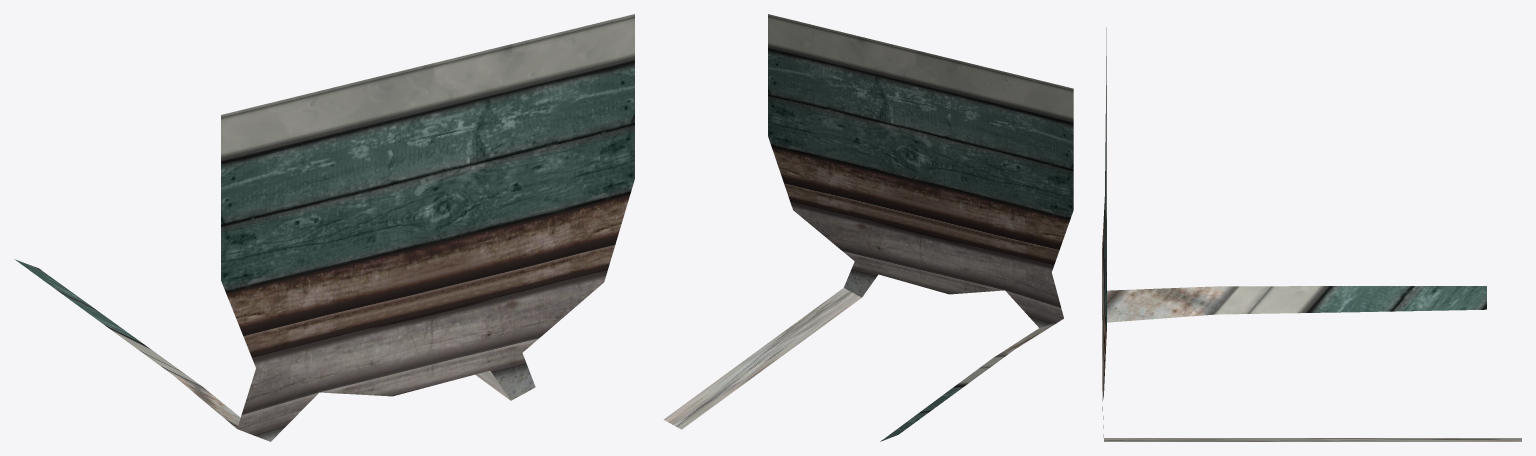
File: water_base.fbx
3 renders of one model, left to right at view 1: azimuth 30°, elevation 25°; view 2: azimuth 150°, elevation 25°; view 3: azimuth 270°, elevation 25°, orthographic. The views are drawn at different scales.
Parts seen in each view (by area): view 1: Brick_wall.008; view 2: Brick_wall.008; view 3: Brick_wall.008.
Boxes of the visible parts, x1,y1,x2,y2 form: Brick_wall.008: [14, 14, 634, 441]; Brick_wall.008: [663, 14, 1073, 441]; Brick_wall.008: [1102, 27, 1521, 441].
Size of the model in its own units: 141 by 115 by 145.
